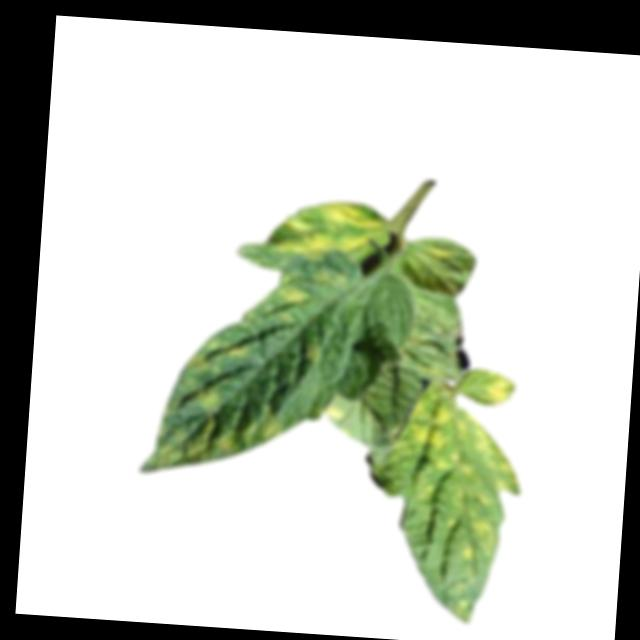Leaf_Mold: (385, 353, 528, 623), (139, 378, 289, 484), (275, 197, 399, 271), (184, 331, 255, 377), (269, 269, 313, 326)
